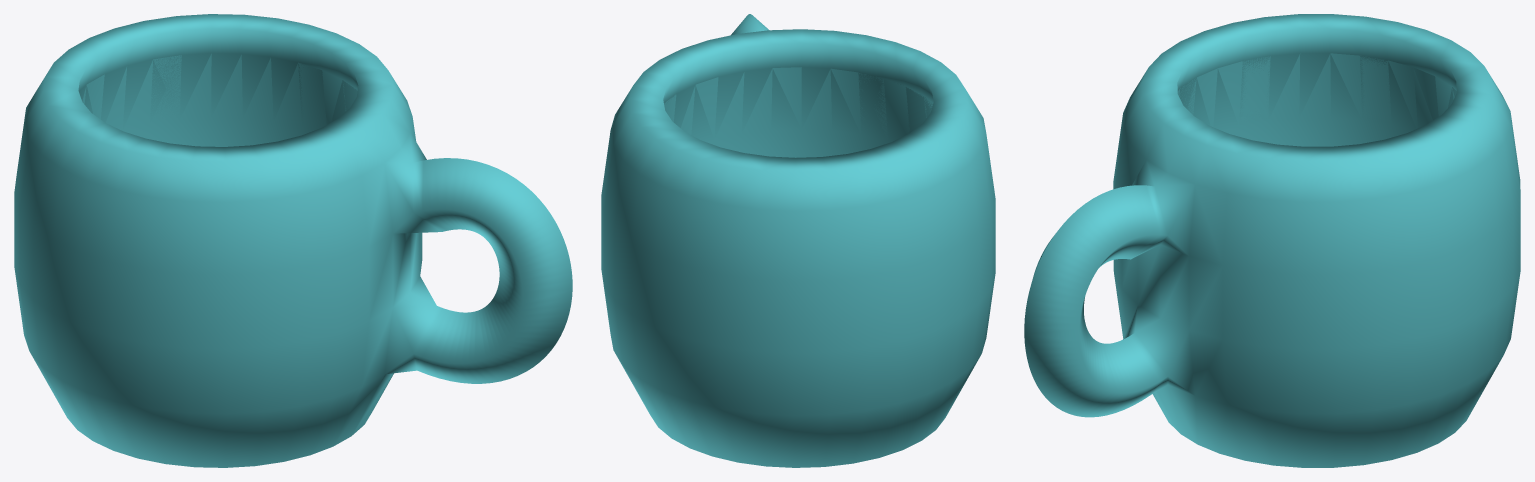
File: cup.dae
The picture shows the model from 3 angles, left to right: view 1: azimuth 30°, elevation 25°; view 2: azimuth 150°, elevation 25°; view 3: azimuth 270°, elevation 25°; orthographic projection. The views are drawn at different scales.
Visible parts, largest first — view 1: NurbsPath; view 2: NurbsPath; view 3: NurbsPath.
Part boxes in pixels (x1=…): NurbsPath: x1=14, y1=14, x2=572, y2=467; NurbsPath: x1=601, y1=14, x2=995, y2=467; NurbsPath: x1=1024, y1=14, x2=1520, y2=467.
Bounding box in the file's own units: 2.31 × 2.55 × 1.78.
